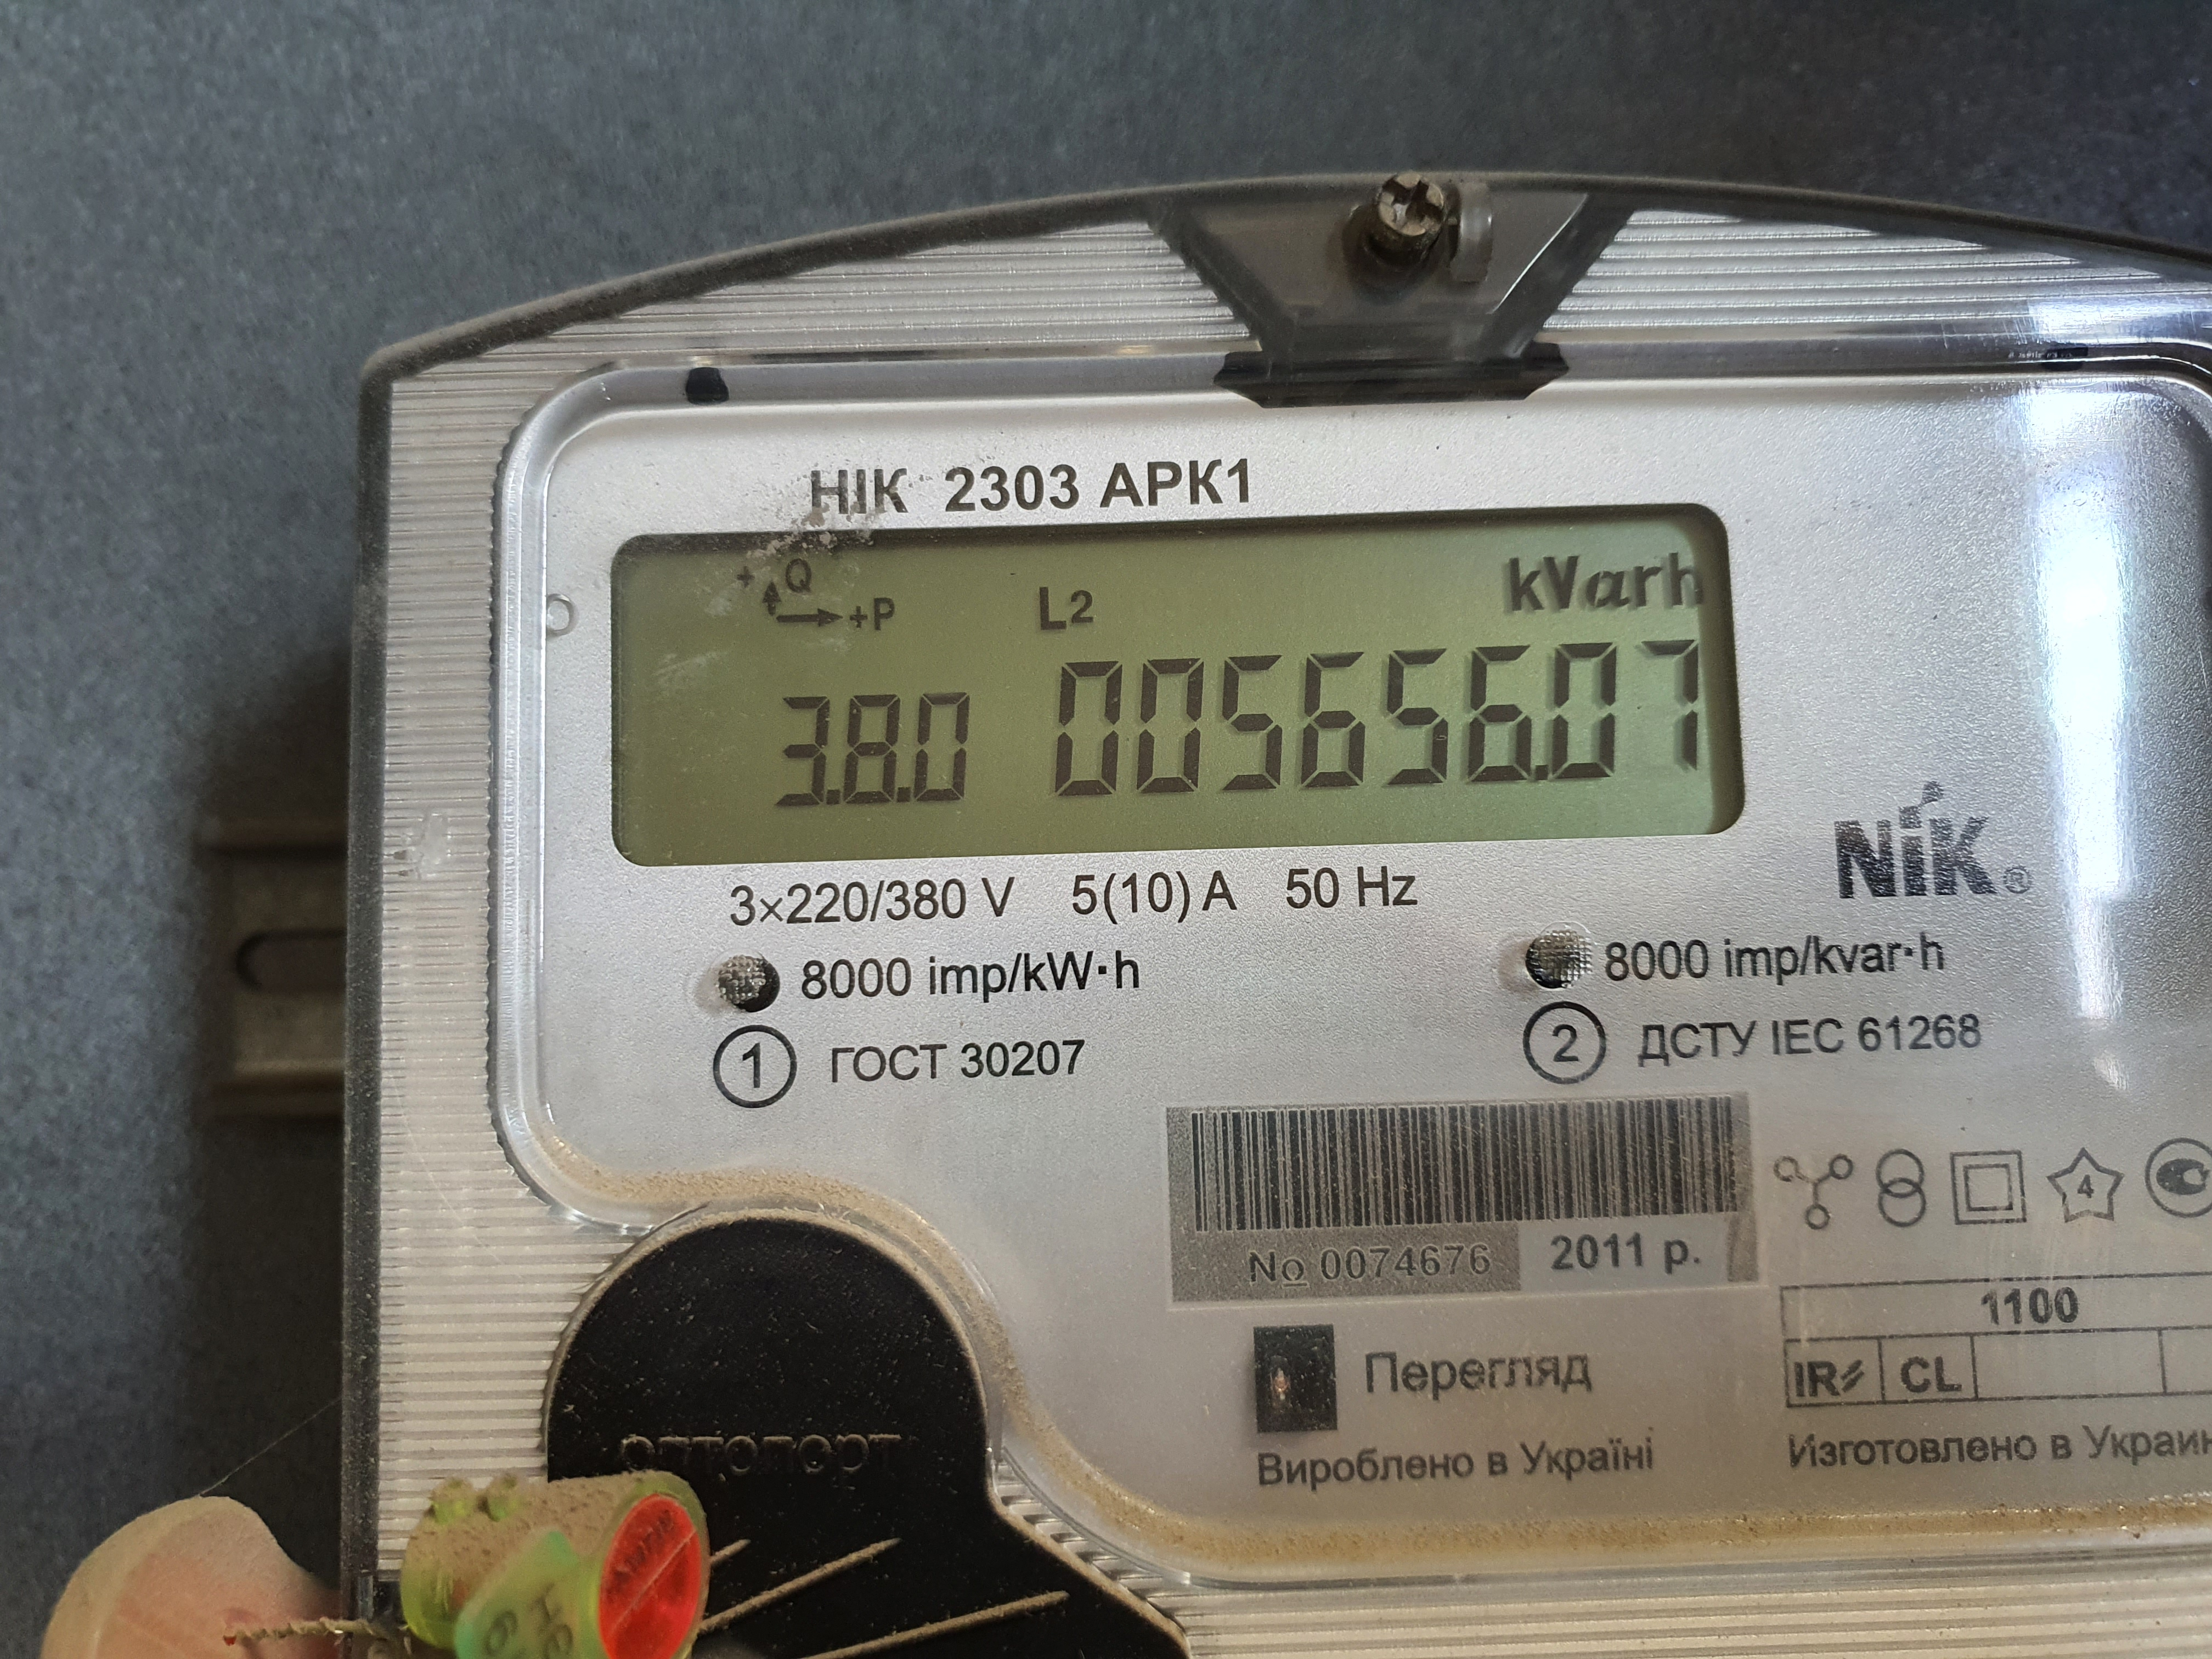screen: (564, 465, 1792, 917)
